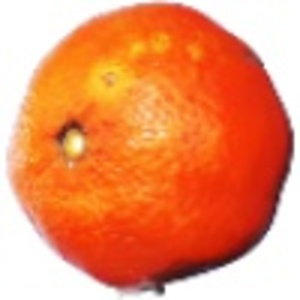tangerina: (5, 1, 300, 297)
